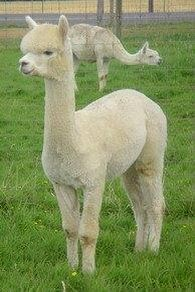alpaca: (18, 15, 167, 273), (68, 19, 163, 92)
